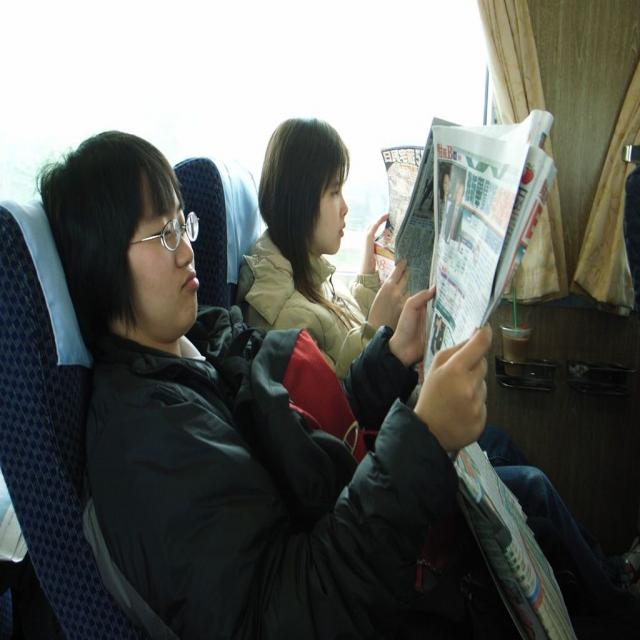Glasses: (126, 210, 200, 253)
